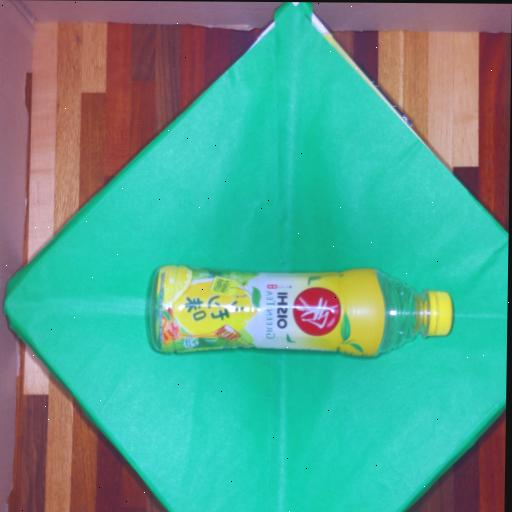bottle: (130, 251, 459, 372)
